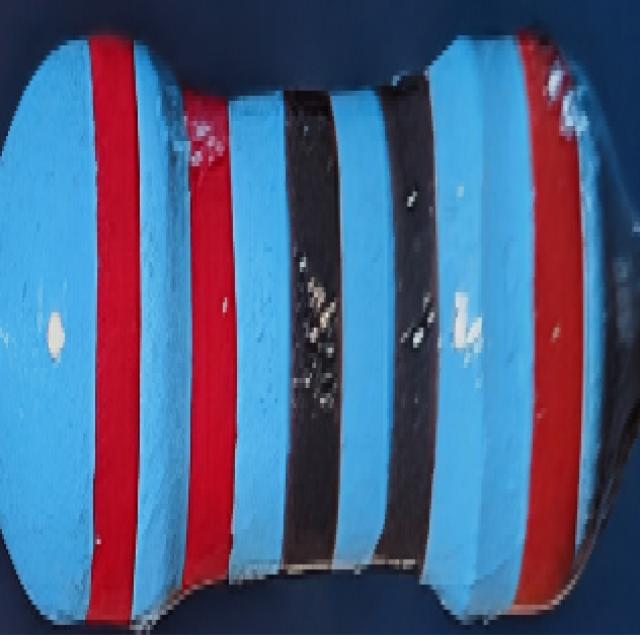Resistor: (1, 31, 638, 632)
black: (377, 76, 437, 564), (282, 91, 342, 569)
red: (515, 36, 583, 604), (88, 36, 141, 624), (183, 91, 236, 589)
